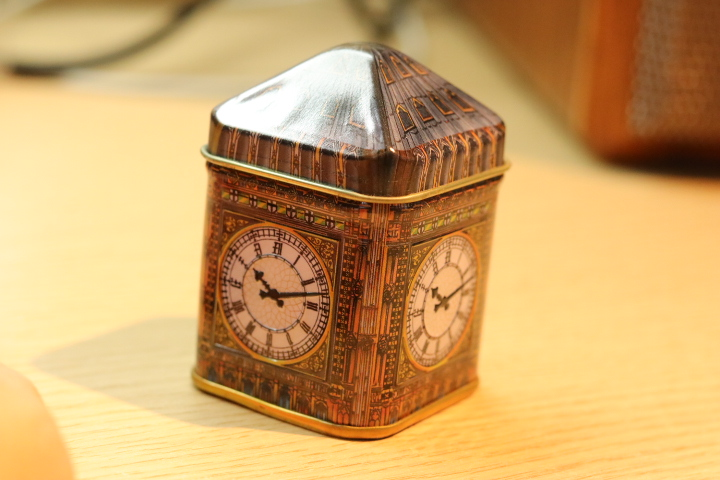Big Ben: (183, 32, 540, 452)
